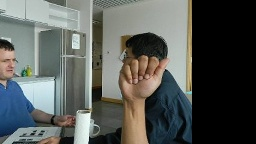Pugno: (111, 54, 172, 104)
